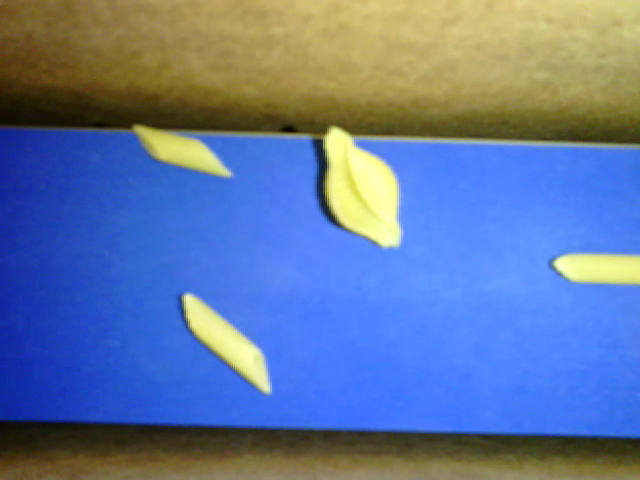penne: (181, 291, 272, 395), (133, 124, 232, 178), (552, 253, 639, 284)
shell: (323, 124, 403, 248)
